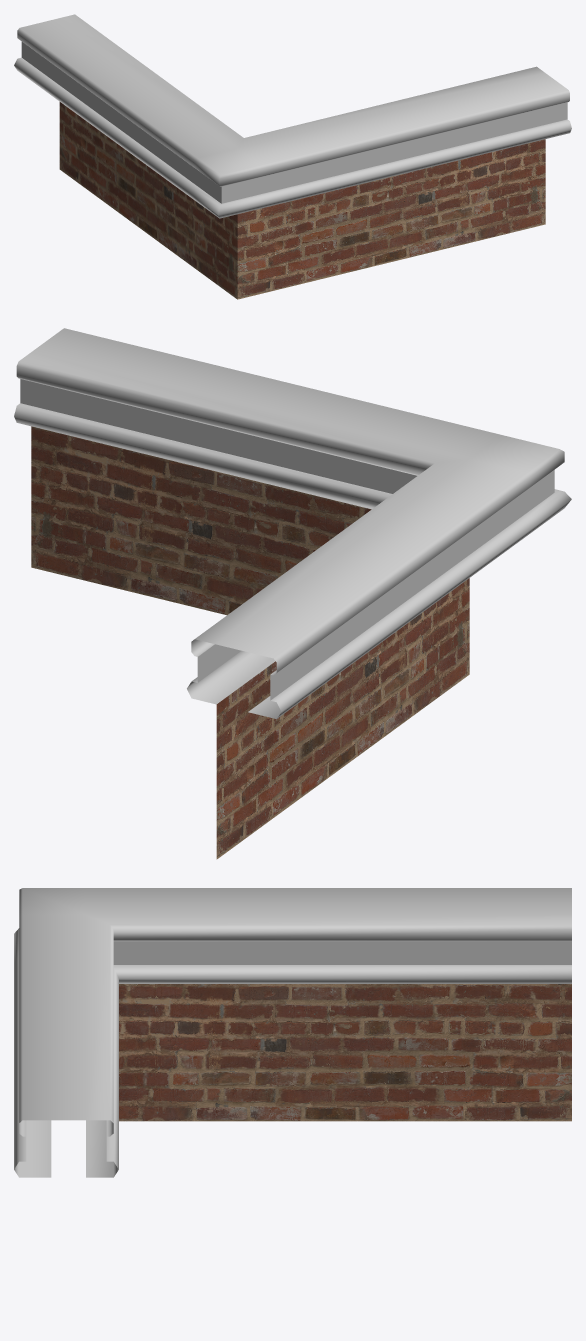
The model's file is SM_Wall_Crown_Corner_Outer.fbx.
3 renders of one model, top to bottom at view 1: azimuth 30°, elevation 25°; view 2: azimuth 150°, elevation 25°; view 3: azimuth 270°, elevation 25°, orthographic. The views are drawn at different scales.
Visible parts, largest first — view 1: SM_Wall_Crown_Corner_Outer; view 2: SM_Wall_Crown_Corner_Outer; view 3: SM_Wall_Crown_Corner_Outer.
Part boxes in pixels (<box>): SM_Wall_Crown_Corner_Outer: <box>14,14,571,299</box>; SM_Wall_Crown_Corner_Outer: <box>14,328,571,859</box>; SM_Wall_Crown_Corner_Outer: <box>14,888,571,1177</box>.
Size of the model in its own units: 804 by 804 by 328.
